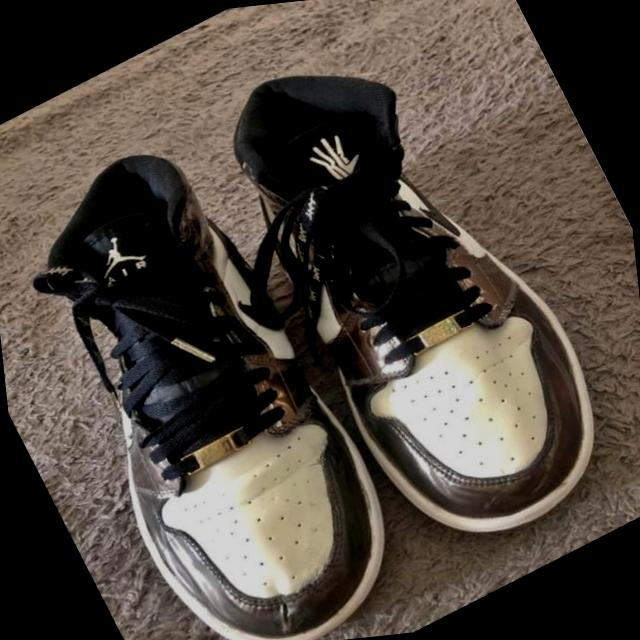nike_fake_jordan: (175, 0, 640, 597), (0, 102, 431, 640)
